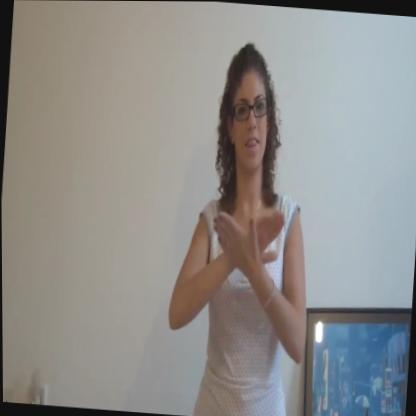NiceToMeetYou: (201, 178, 287, 283)
